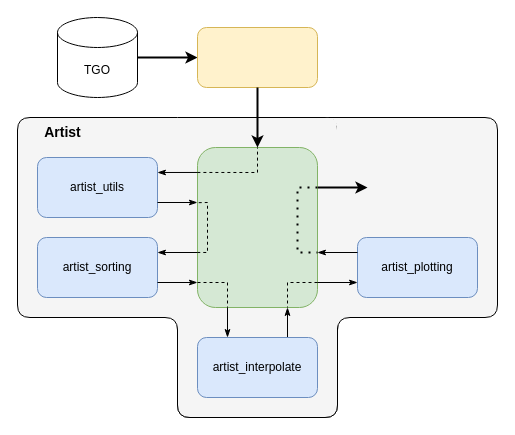
The diagram is 515 pixels wide and 435 high, and some of its shapes have lost their labels. Each missing label, with the box of its shape:
main_artist: (196, 146, 318, 308)
SAO-Explorer (Artist 4.5): (196, 26, 318, 88)
